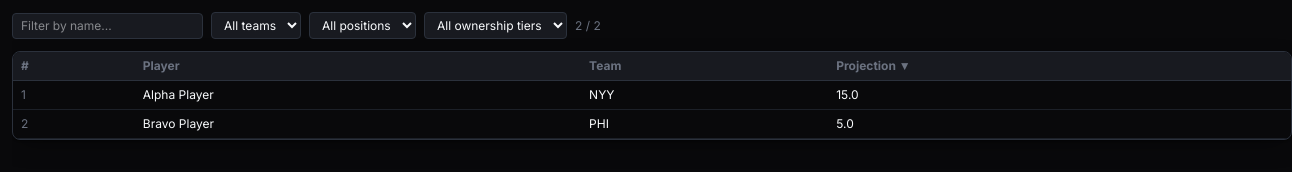
PlayerTable › shows a friendly empty state when filters match nothing
Type "zzz-nobody" into the field with placeholder "Filter by name..." at [108, 26], box [12,12,203,38]
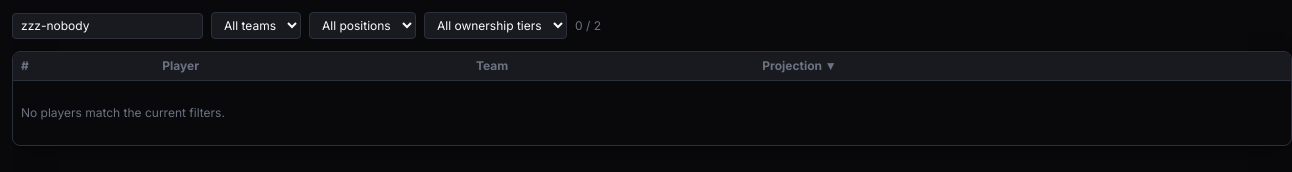
Check: the text "No players match the current filters." is shown, box [13,80,1291,145]
